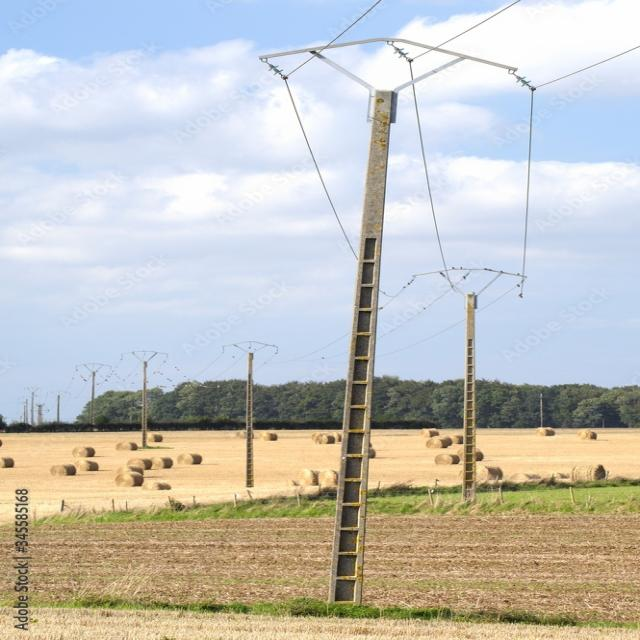Electric pole: (328, 90, 394, 605), (462, 293, 477, 503)
